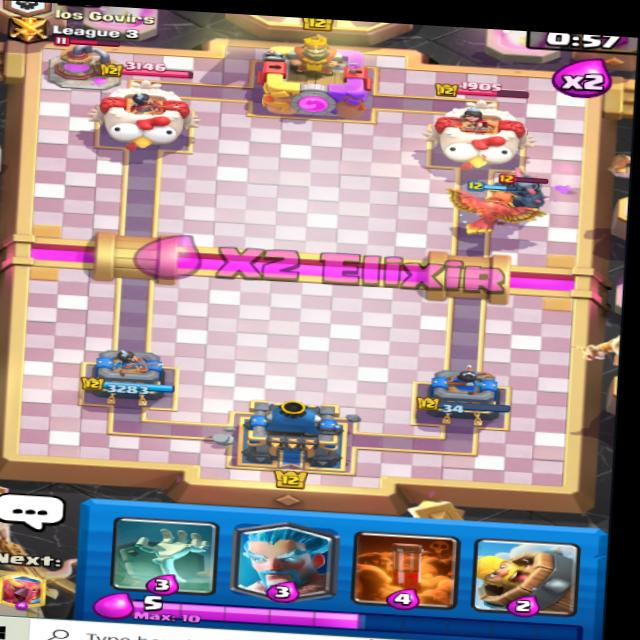elixir-collector: (34, 35, 121, 94)
pekka: (482, 176, 552, 221)
